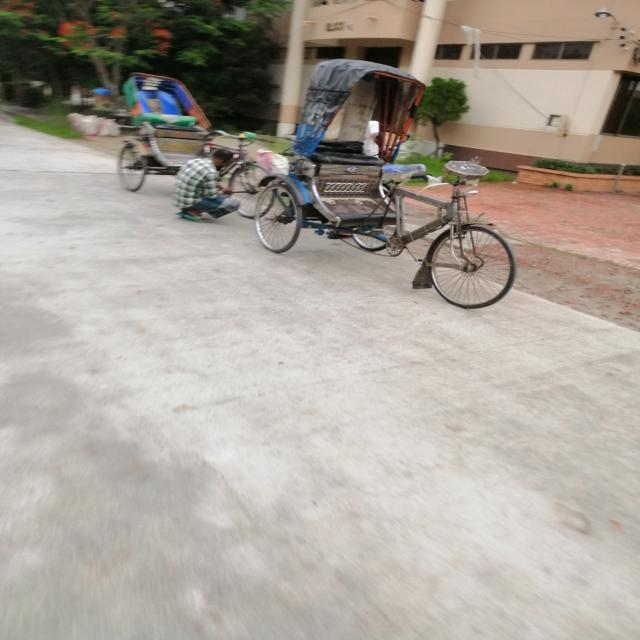Rickshaw: (256, 54, 521, 318)
